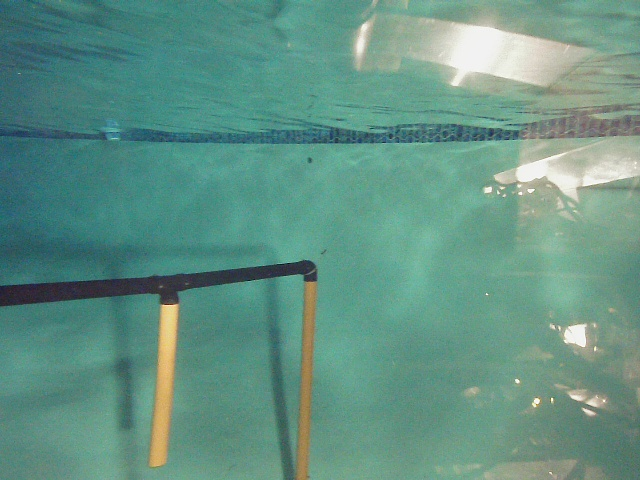Gate: (145, 297, 181, 470), (293, 277, 319, 480)
